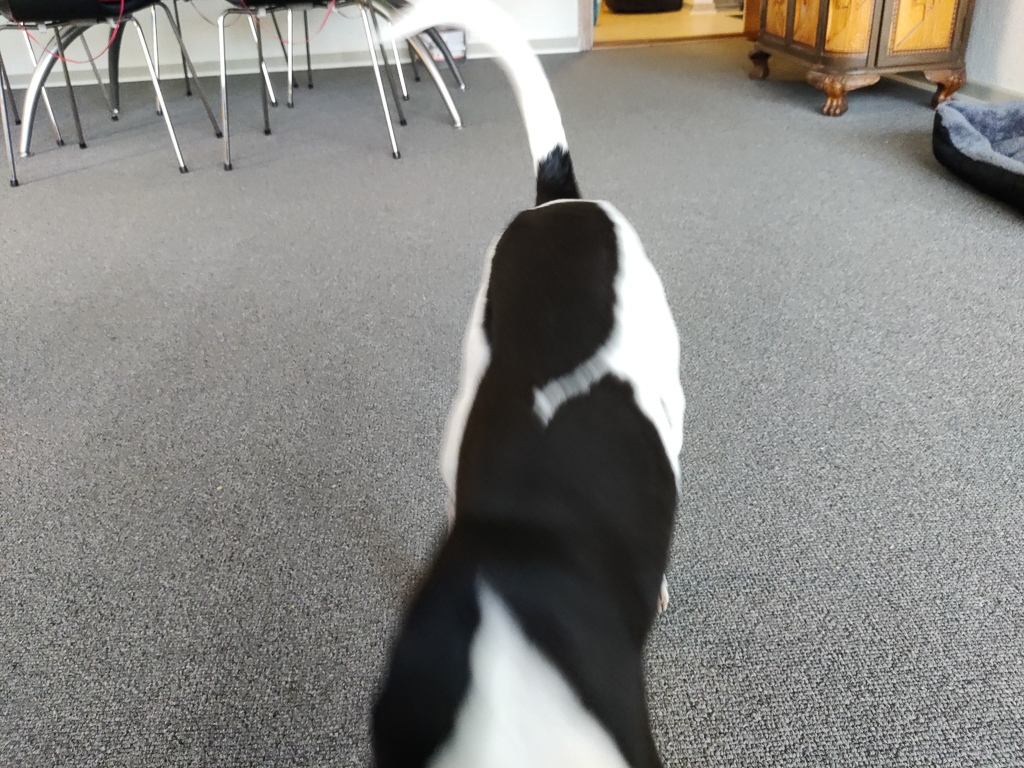Dog: (354, 0, 710, 768)
